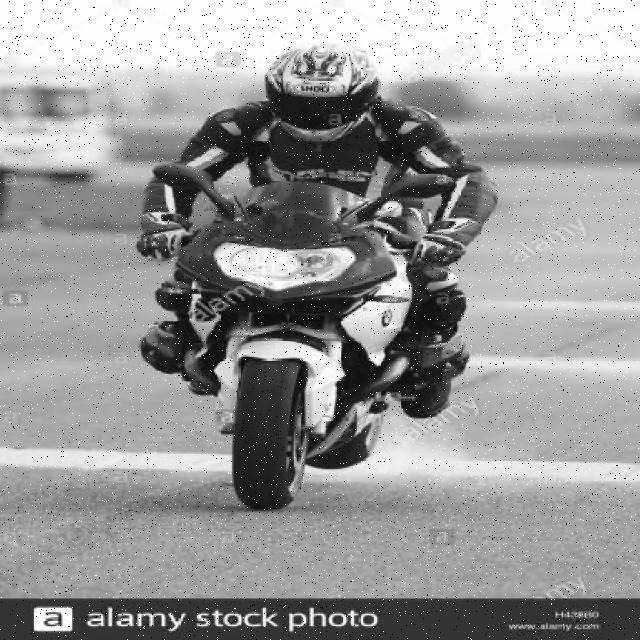Motorbike: (135, 43, 500, 513)
